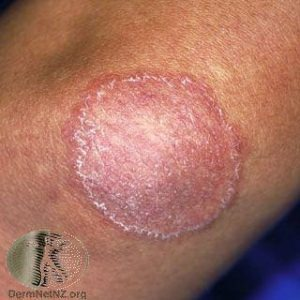Ringworm: (8, 54, 124, 115)
